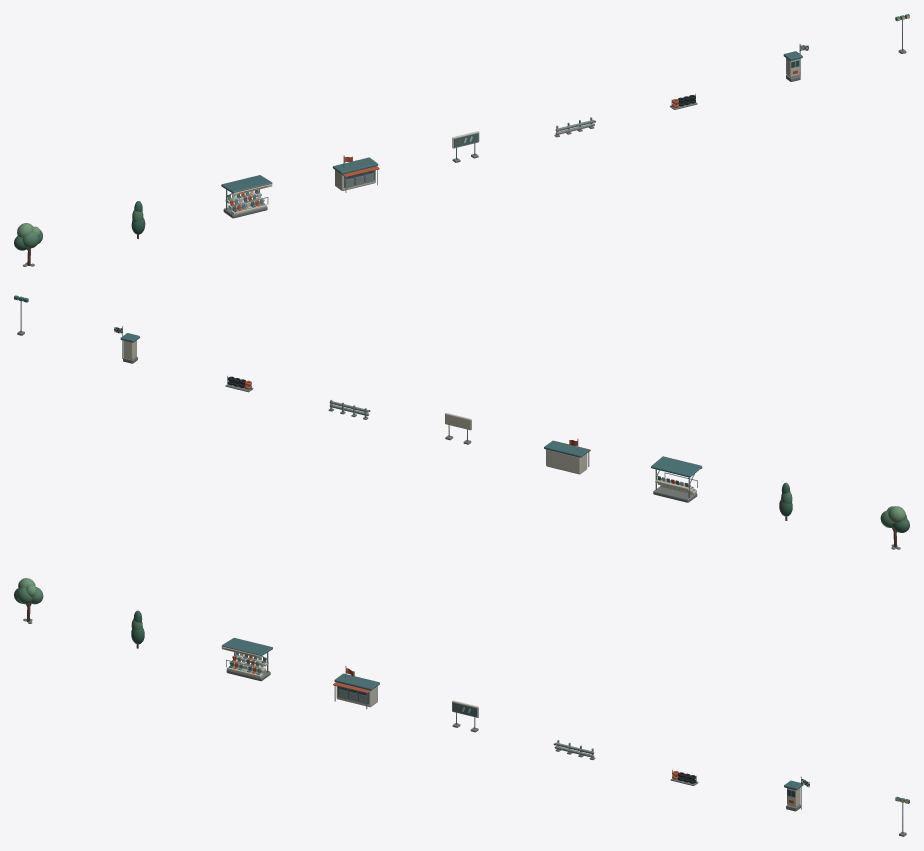
File: password-racer-track.glb
3 views of the same model, one above another, from view 1: azimuth 30°, elevation 25°; view 2: azimuth 150°, elevation 25°; view 3: azimuth 330°, elevation 25° (orthographic).
Parts seen in each view (by area): view 1: CircuitGrandstand_Mesh, CircuitPitGarage_Mesh, CircuitOak_Mesh; view 2: CircuitGrandstand_Mesh, CircuitPitGarage_Mesh, CircuitOak_Mesh; view 3: CircuitGrandstand_Mesh, CircuitPitGarage_Mesh, CircuitOak_Mesh.
Part boxes in pixels (left/top/right/bottom): CircuitGrandstand_Mesh: left=221, top=175, right=272, bottom=218; CircuitPitGarage_Mesh: left=332, top=155, right=379, bottom=192; CircuitOak_Mesh: left=14, top=223, right=42, bottom=266; CircuitGrandstand_Mesh: left=651, top=456, right=702, bottom=502; CircuitPitGarage_Mesh: left=544, top=438, right=590, bottom=474; CircuitOak_Mesh: left=880, top=506, right=909, bottom=549; CircuitGrandstand_Mesh: left=221, top=638, right=272, bottom=681; CircuitPitGarage_Mesh: left=333, top=666, right=379, bottom=709; CircuitOak_Mesh: left=14, top=578, right=43, bottom=623.
Size of the model in its own units: 49.13 by 2.23 by 1.22.
